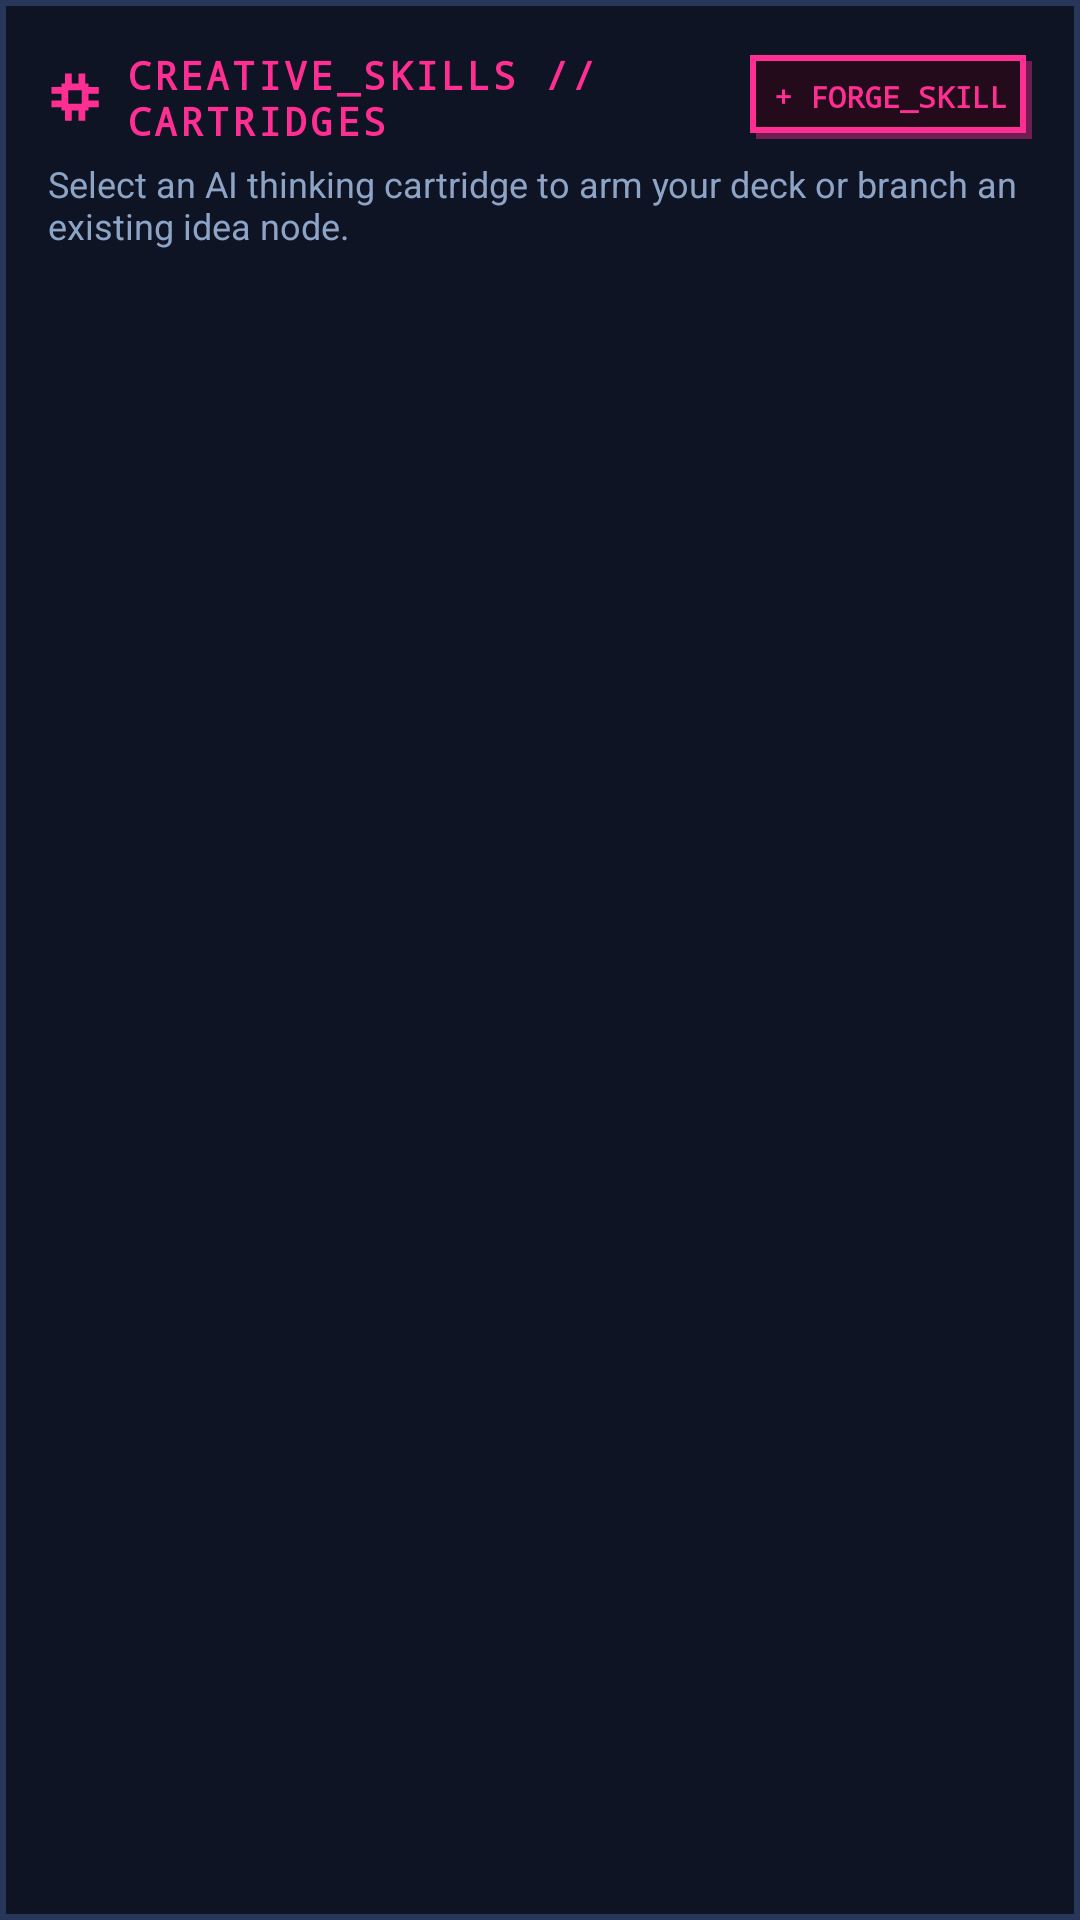

Locate icon controls on the screen. Image size 1080*1920, boxes as rect(x1, y1, x2, y2).
chip: rect(51, 73, 99, 121)
